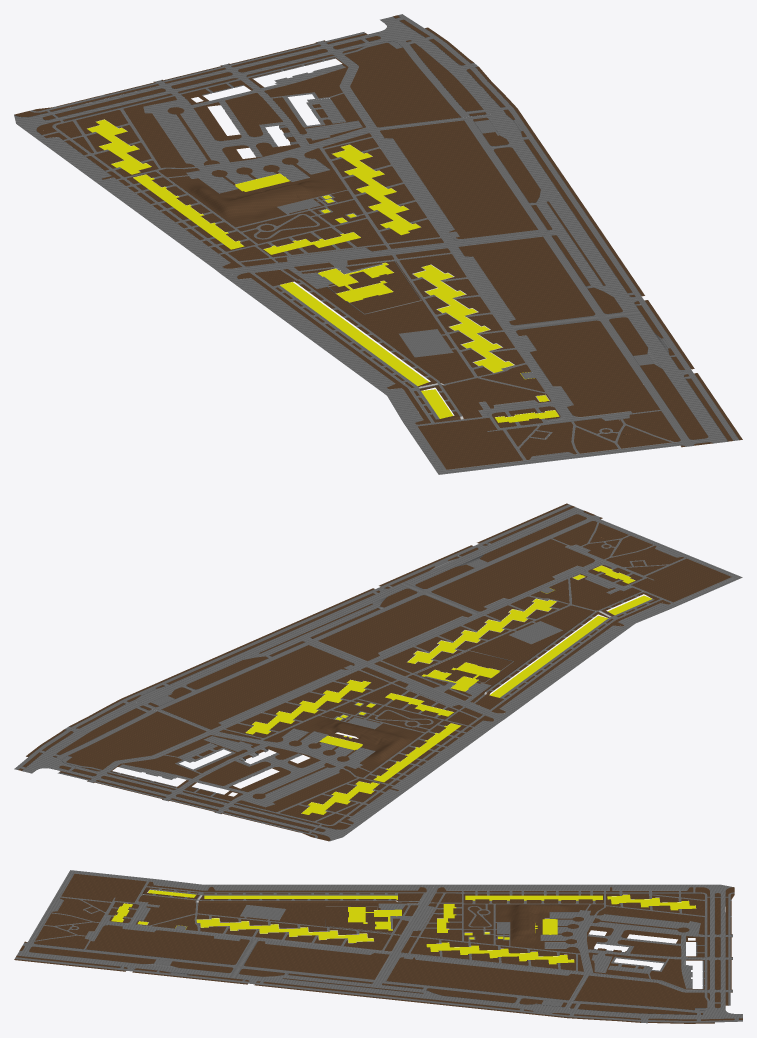
The model's file is tv_ground.fbx.
The picture shows the model from 3 angles, top to bottom: view 1: azimuth 30°, elevation 25°; view 2: azimuth 150°, elevation 25°; view 3: azimuth 270°, elevation 25°; orthographic projection. The views are drawn at different scales.
Parts seen in each view (by area): view 1: tv_ground_0_0, tv_ground_0_1; view 2: tv_ground_0_0, tv_ground_0_1; view 3: tv_ground_0_0, tv_ground_0_1.
Boxes of the visible parts, box(x1,y1,x2,y2) form: tv_ground_0_0: box(14, 14, 598, 274); tv_ground_0_1: box(221, 227, 742, 474); tv_ground_0_0: box(14, 628, 504, 841); tv_ground_0_1: box(281, 503, 742, 718); tv_ground_0_0: box(369, 884, 742, 1023); tv_ground_0_1: box(14, 870, 433, 997).
Bounding box in the file's own units: 368 × 5.39 × 736.
7 materials, 4 textured.
